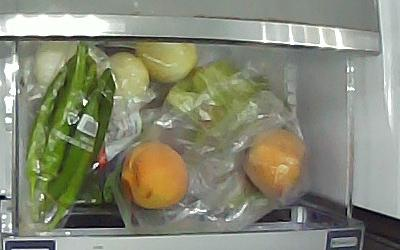peach: (121, 141, 188, 209)
peach_vinyl: (243, 127, 305, 201)
